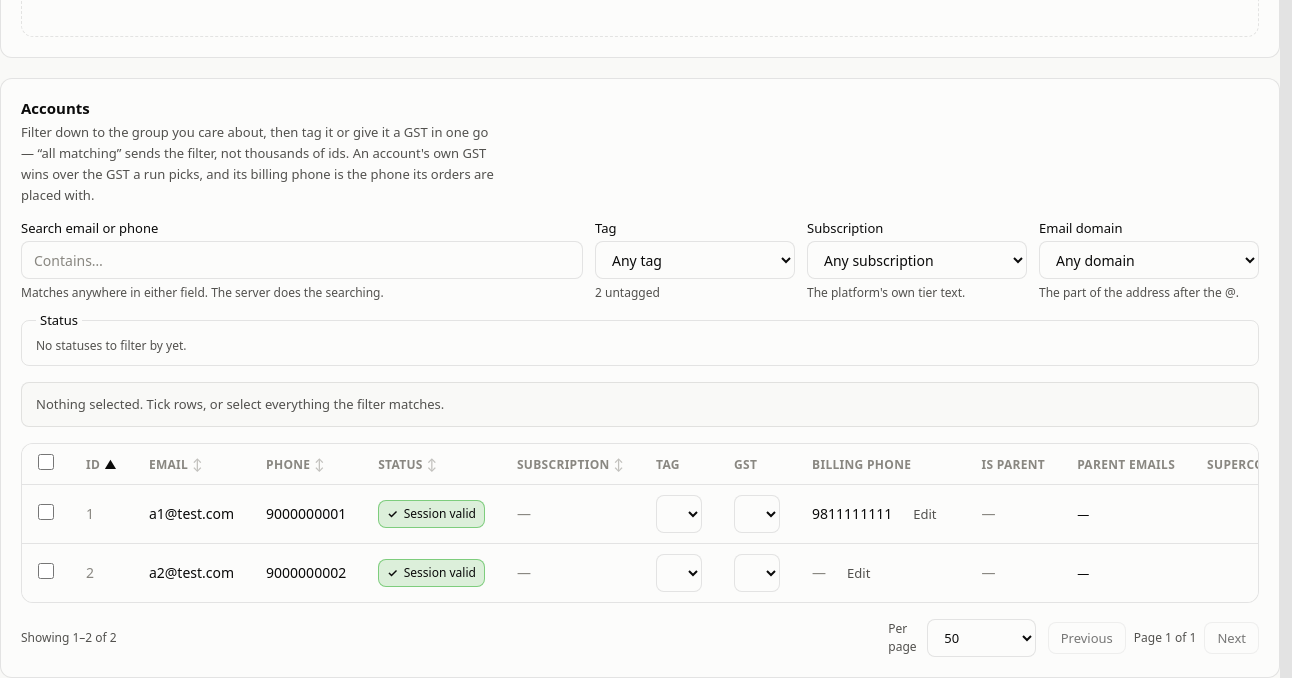
it: Accounts: an account's own GST and billing phone › gives the ticked rows a GST in one request, as ids
(page scrolled)
Check: the text "a2@test.com" is shown, box [149,563,234,583]
Check: the dropdown named "GST for a2@test.com" is enabled, box [734,554,780,592]
Step 1. Click the checkbox named "Select a1@test.com" in the row of "a1@test.com" → (46, 512), box [38,504,54,520]
(page scrolled)
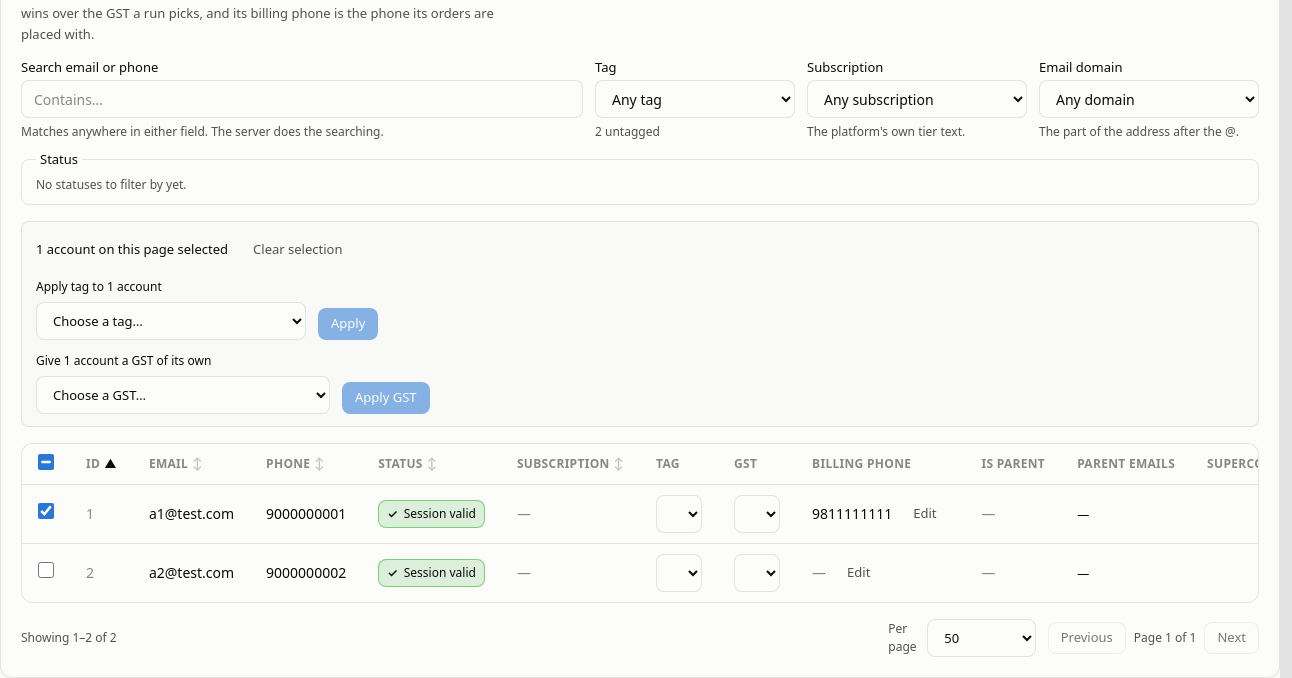
Step 2. Click the checkbox named "Select a2@test.com" in the row of "a2@test.com" → (46, 570), box [38,562,54,578]
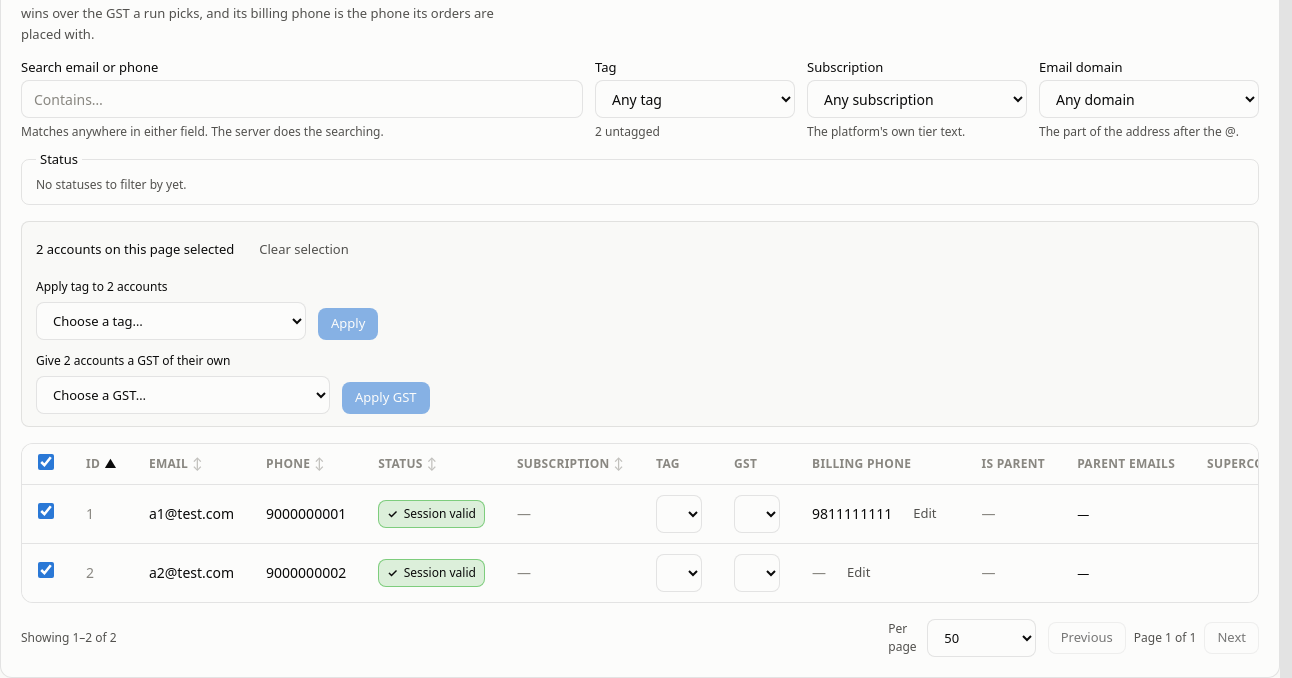
Step 3. Select "SONIC · 33AAECS4321F1ZK" in the dropdown labelled "Give 2 accounts a GST of their own" → (183, 395), box [36,376,330,414]
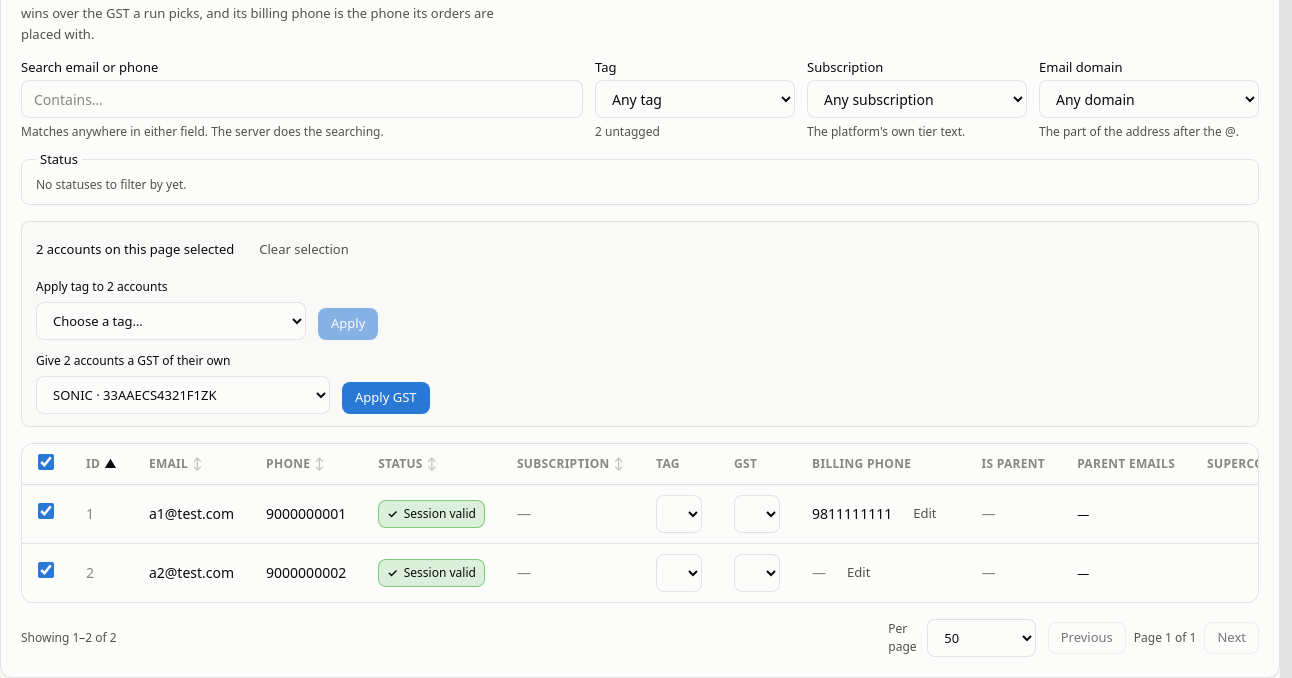
Step 4. Click the button "Apply GST" → (386, 398), box [342,382,430,414]
(page scrolled)
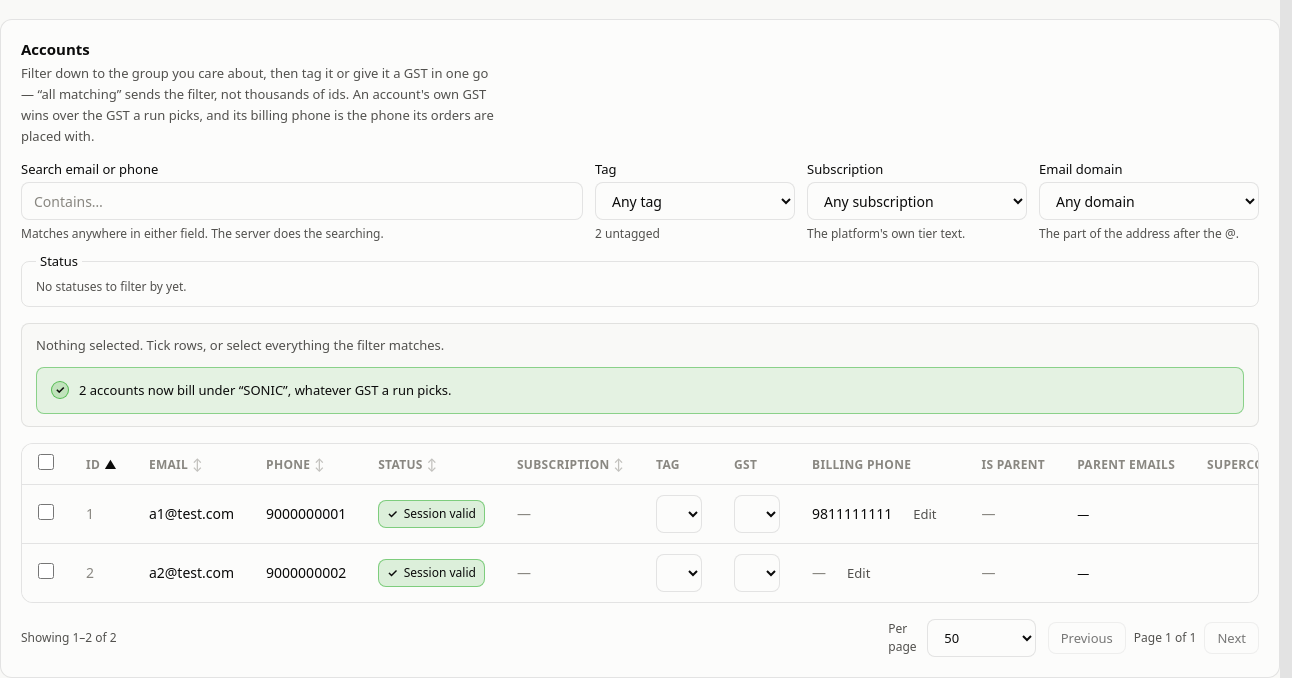
Check: the text "2 accounts now bill under “SONIC”, whatever GST a run picks." is shown, box [79,380,452,401]
